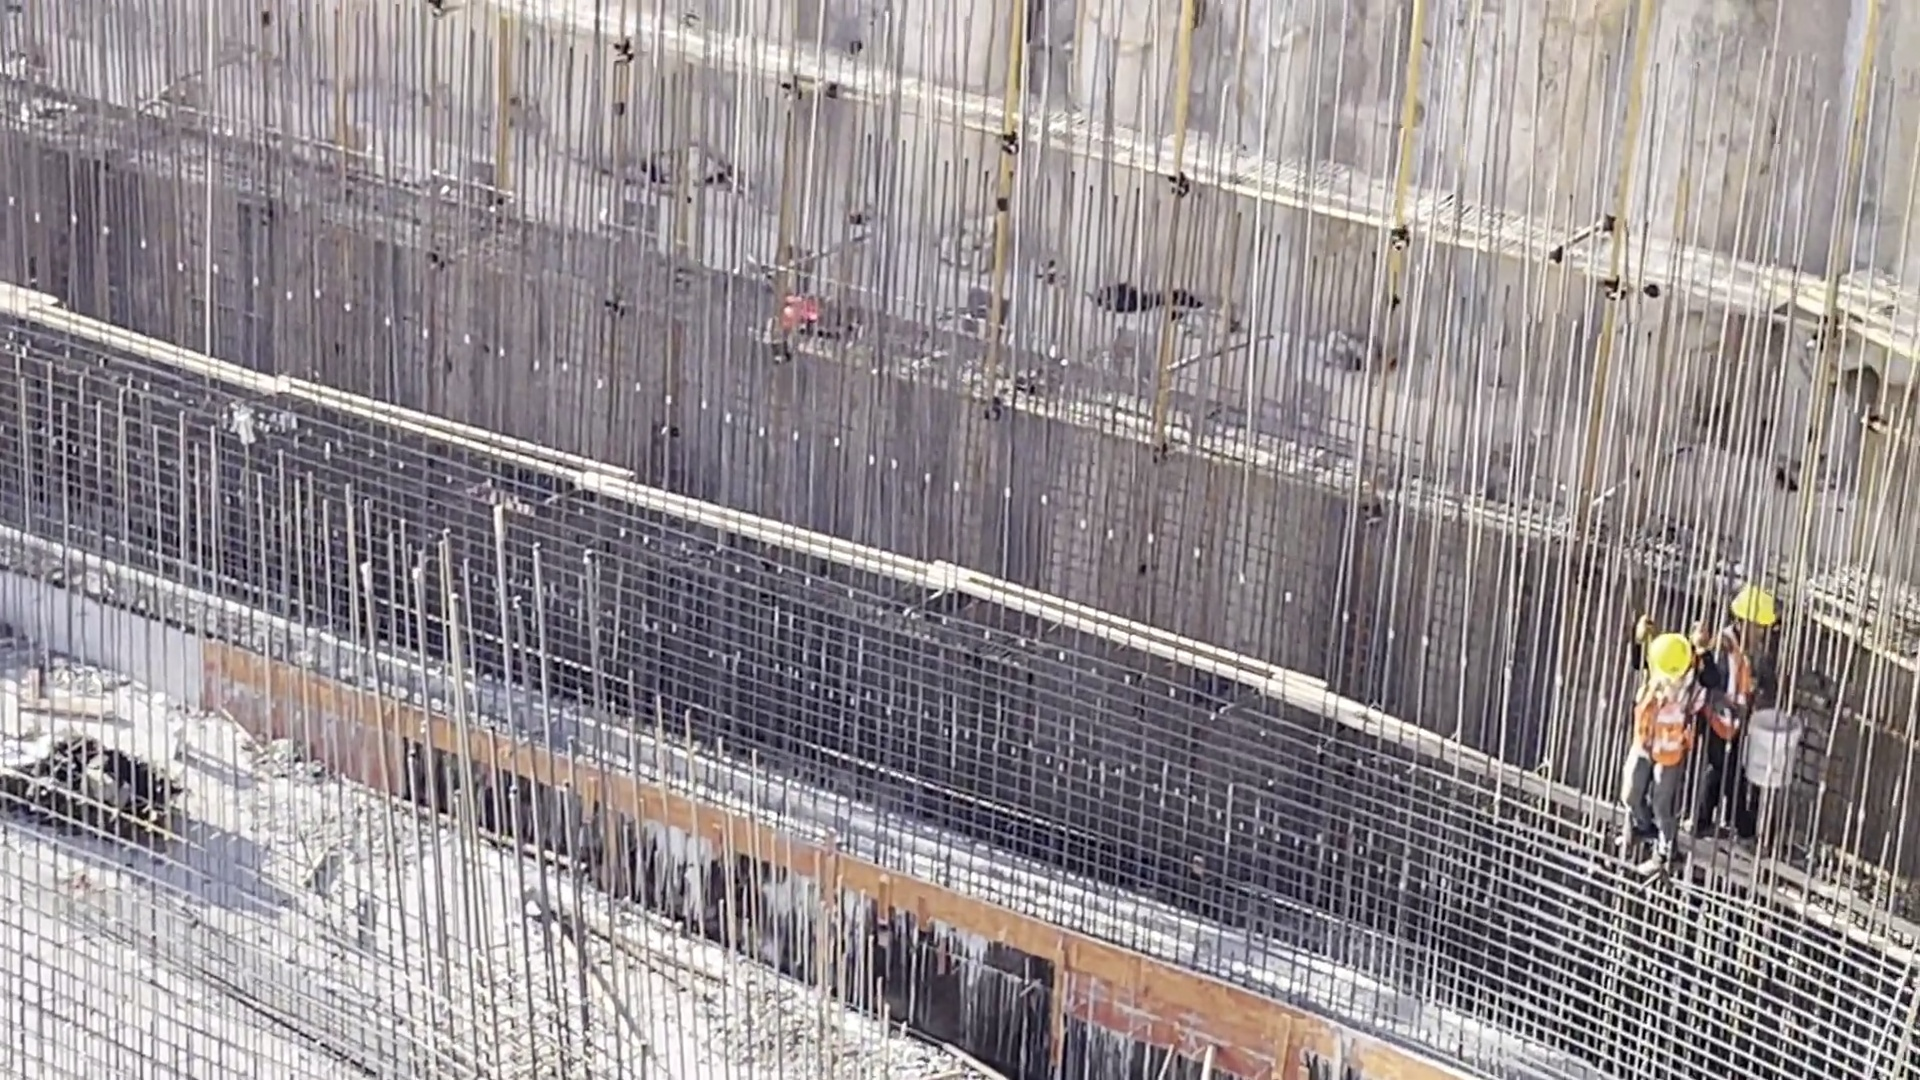helmet: (1658, 634, 1697, 682), (1733, 586, 1780, 624)
person: (1708, 586, 1792, 843), (1634, 630, 1697, 898)
vest: (1638, 681, 1710, 744), (1717, 631, 1760, 727)
